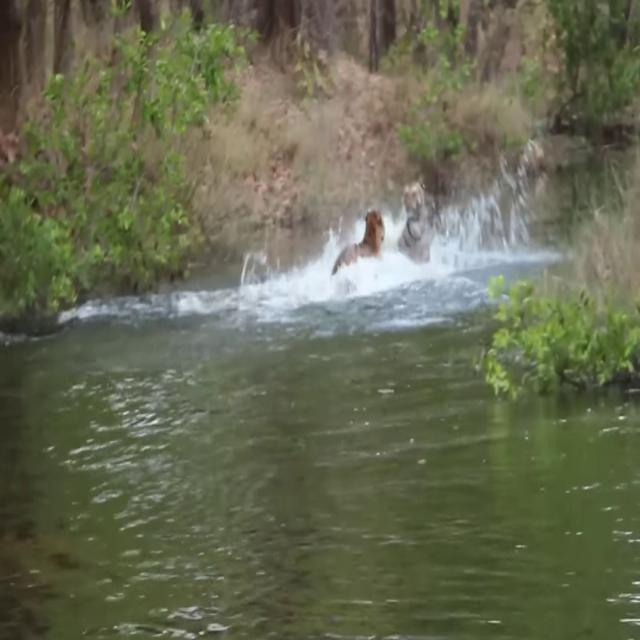tiger: (331, 208, 386, 276), (396, 178, 436, 266)
